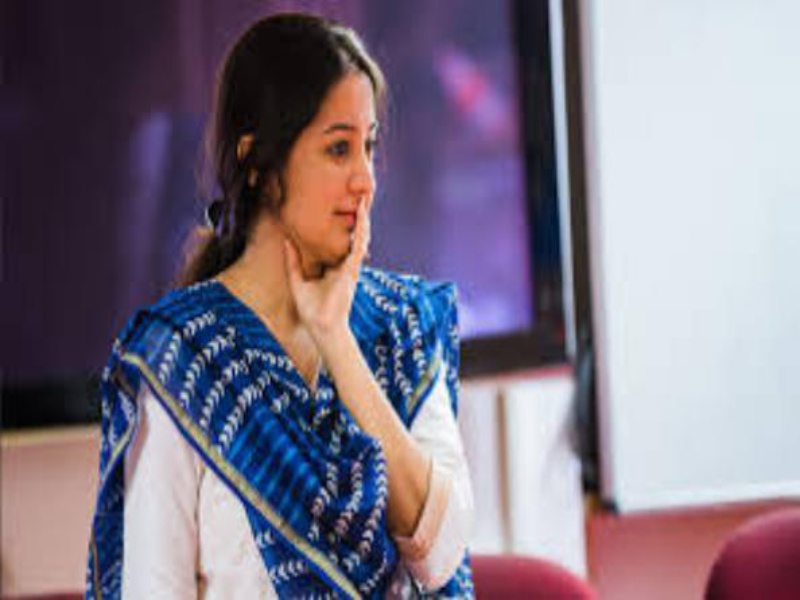TsisyArotava: (272, 53, 404, 295)
